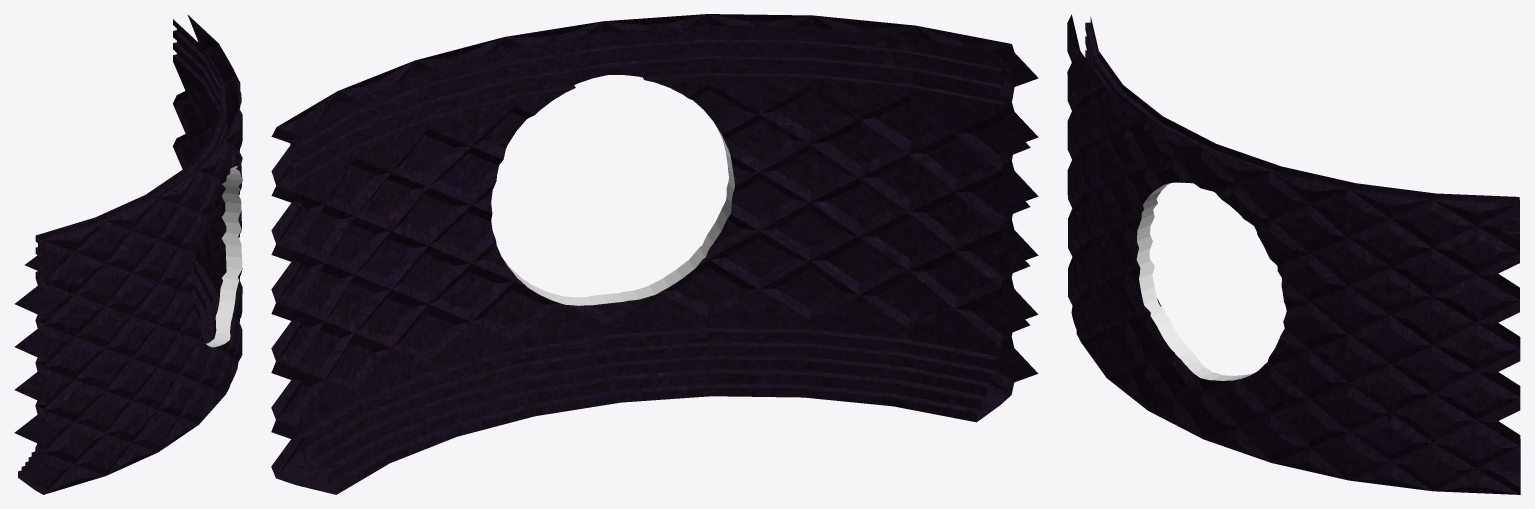
Rendered from mdl_duc_sci_planetariumcylinder_2of4.glb.
The picture shows the model from 3 angles, left to right: view 1: azimuth 30°, elevation 25°; view 2: azimuth 150°, elevation 25°; view 3: azimuth 270°, elevation 25°; orthographic projection. The views are drawn at different scales.
Visible parts, largest first — view 1: Cylindrical Wall 2/4; view 2: Cylindrical Wall 2/4; view 3: Cylindrical Wall 2/4.
Boxes of the visible parts, x1,y1,x2,y2 form: Cylindrical Wall 2/4: (14,14,242,494); Cylindrical Wall 2/4: (271,14,1038,494); Cylindrical Wall 2/4: (1067,14,1520,494).
Size of the model in its own units: 1.1 by 0.7386 by 1.03.
Materials: 2 (1 with a texture image).
